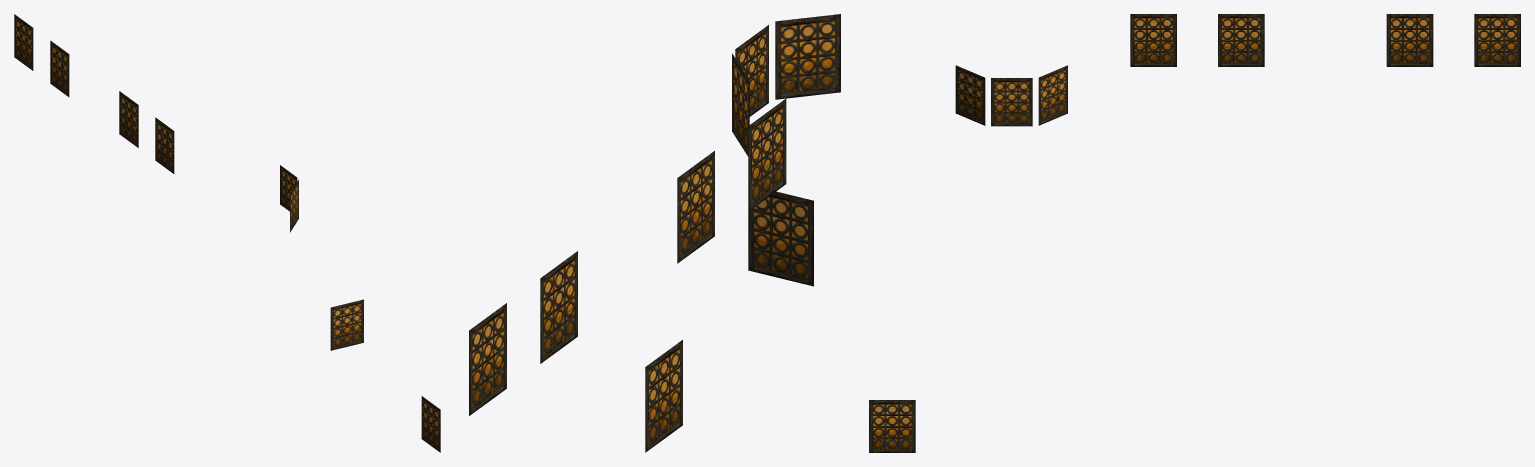
Rendered from LAKETOWN_EXTERIOR_PS_LT_WINDOWS373635.fbx.
3 views of the same model, side by side, from view 1: azimuth 30°, elevation 25°; view 2: azimuth 150°, elevation 25°; view 3: azimuth 270°, elevation 25° (orthographic). The views are drawn at different scales.
Parts seen in each view (by area): view 1: LAKETOWN_EXTERIOR_PS_LT_WINDOWS373635; view 2: LAKETOWN_EXTERIOR_PS_LT_WINDOWS373635; view 3: LAKETOWN_EXTERIOR_PS_LT_WINDOWS373635.
Part boxes in pixels (x1,y1,x2,y2): LAKETOWN_EXTERIOR_PS_LT_WINDOWS373635: (14,14,440,452); LAKETOWN_EXTERIOR_PS_LT_WINDOWS373635: (469,14,840,452); LAKETOWN_EXTERIOR_PS_LT_WINDOWS373635: (869,14,1520,452).
Size of the model in its own units: 56278 by 95389 by 163686.
Materials: 1 (1 with a texture image).
